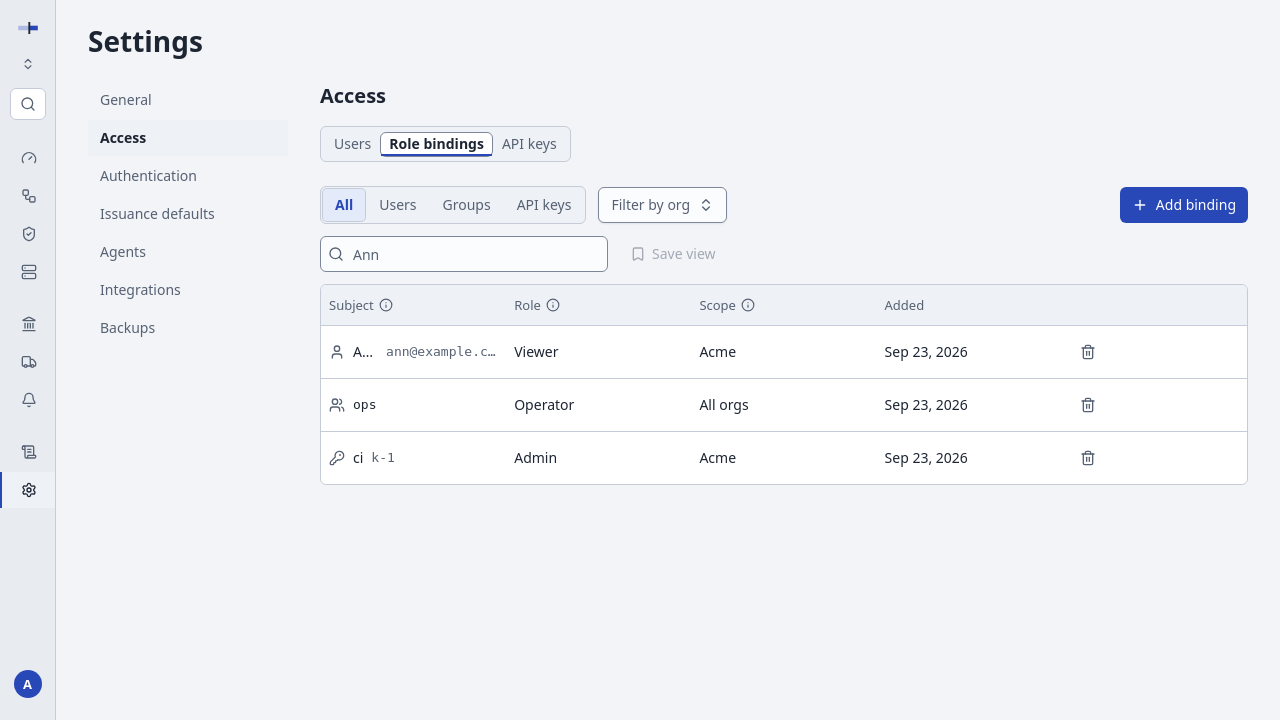
Test: shows a 409 inline and keeps the remove dialog open
Click the button named "Remove Ann viewer" at {"x": 1088, "y": 352}, box [1070,334,1106,370]
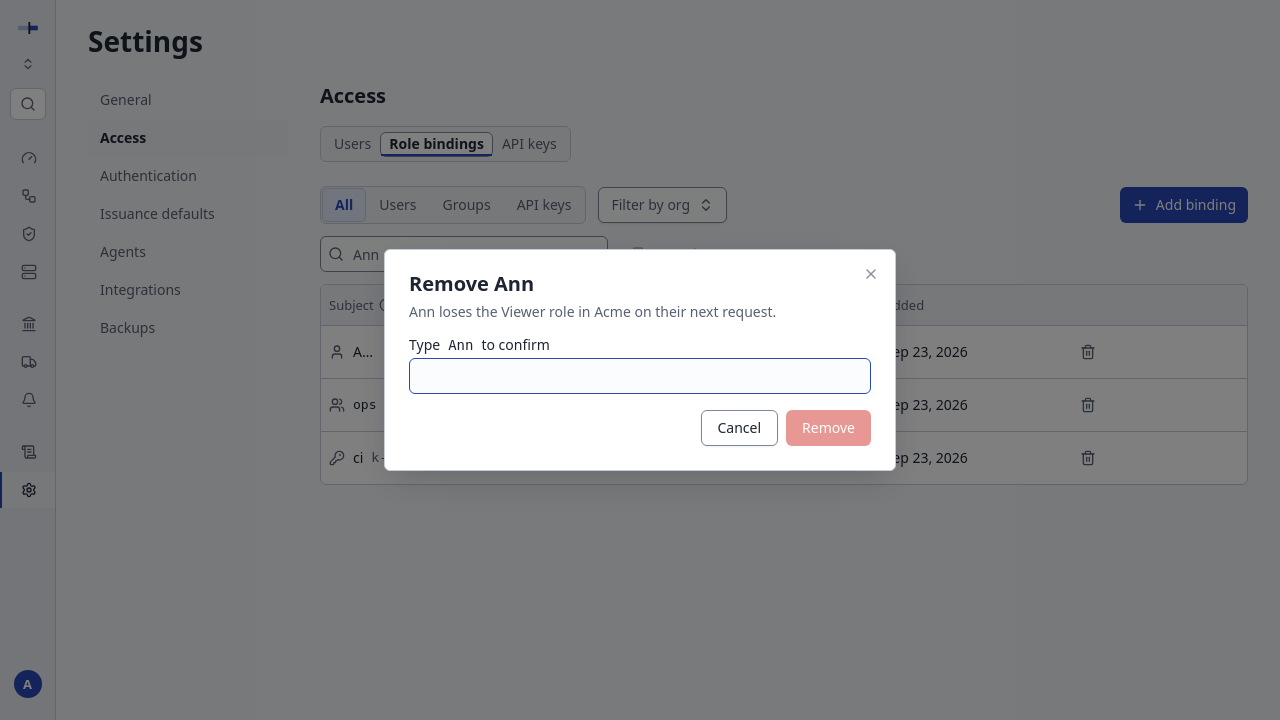
Type "Ann" into the field at {"x": 640, "y": 376}, box [409,358,871,394]
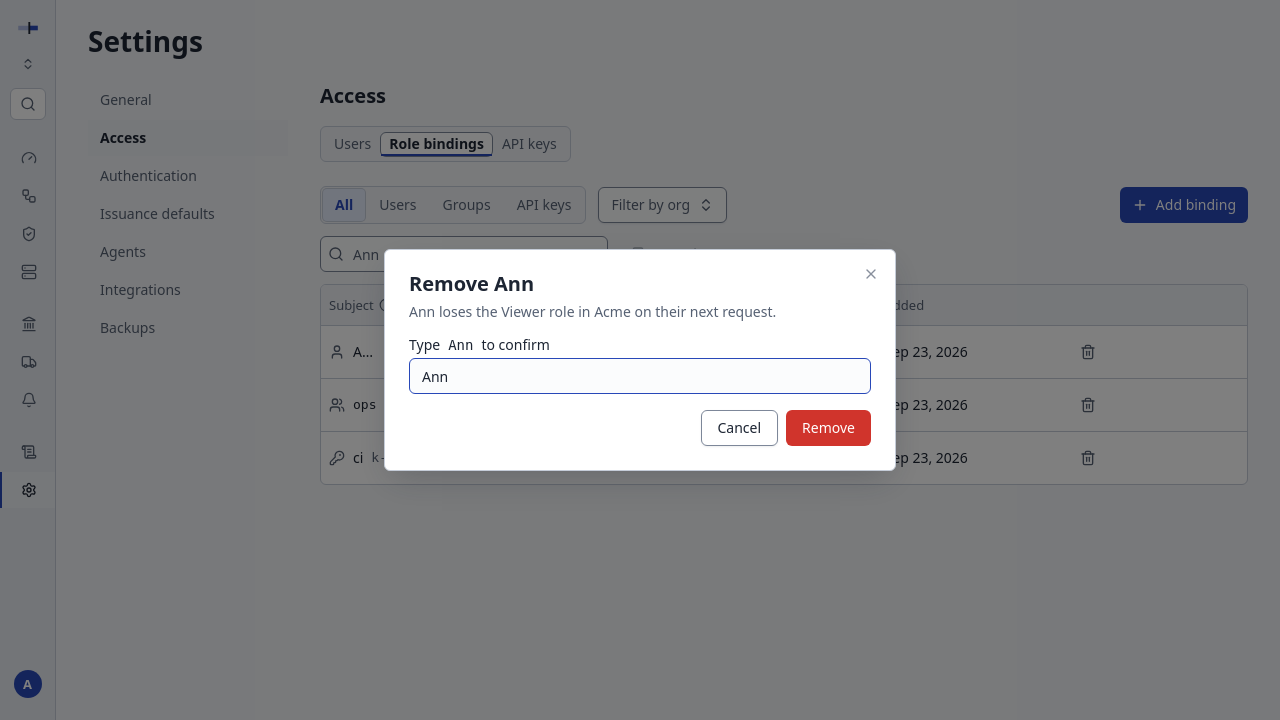
Click the button "Remove" at {"x": 829, "y": 428}, box [786,410,871,446]
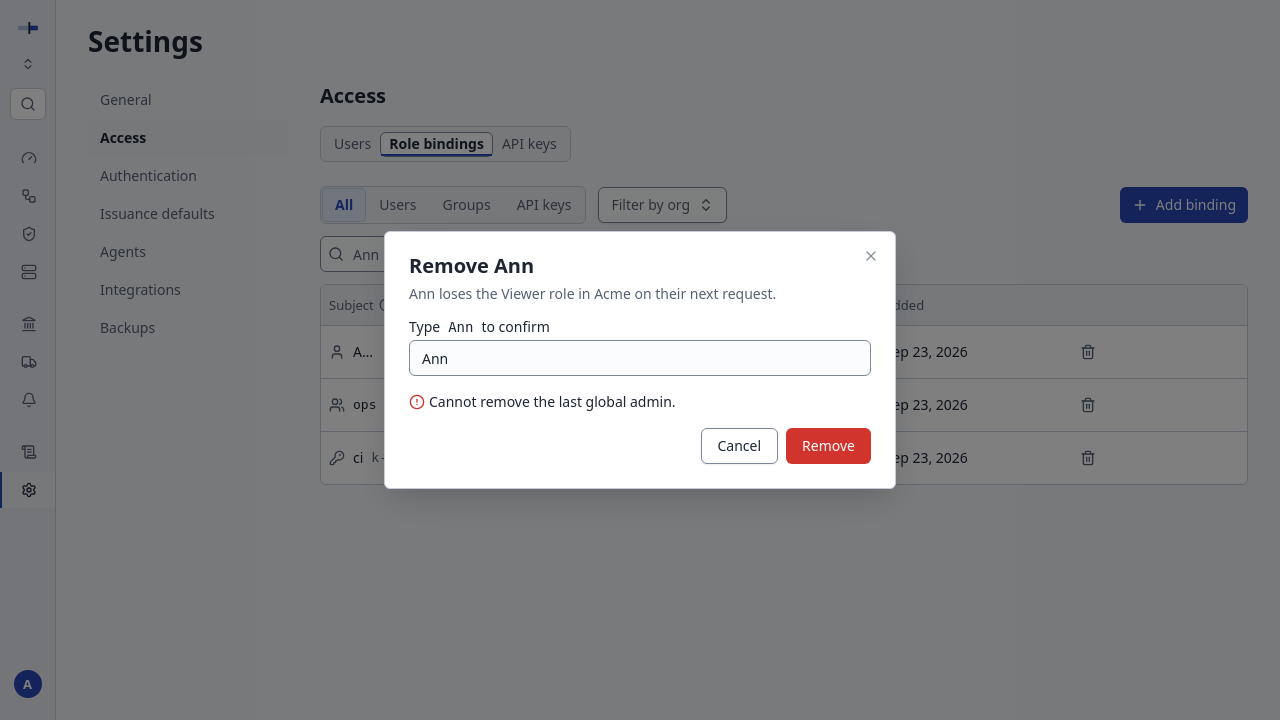
Check: the dialog is shown, box [384,231,896,489]
Check: the message reads "Cannot remove the last global admin.", box [429,392,676,411]
